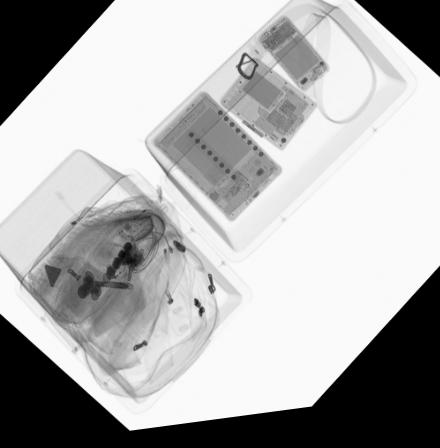Lighter: (110, 252, 145, 283)
